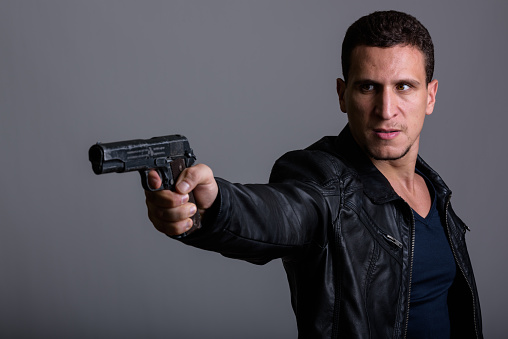gun: (86, 131, 204, 241)
